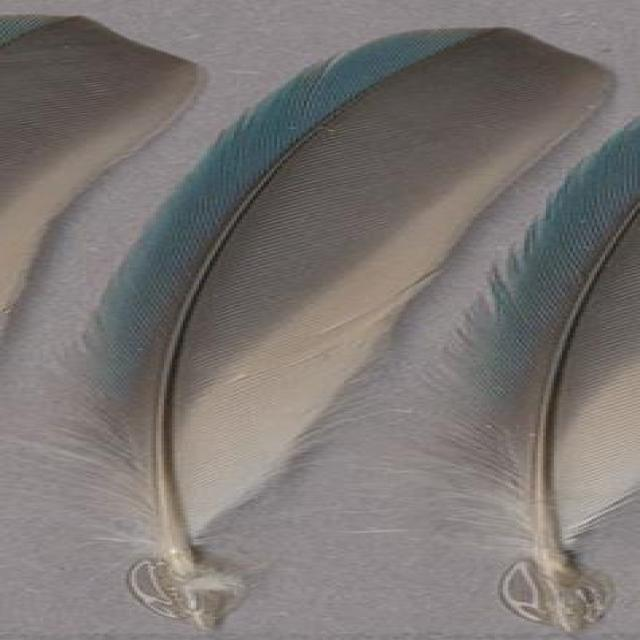feather: (27, 21, 630, 633), (315, 119, 640, 632)
